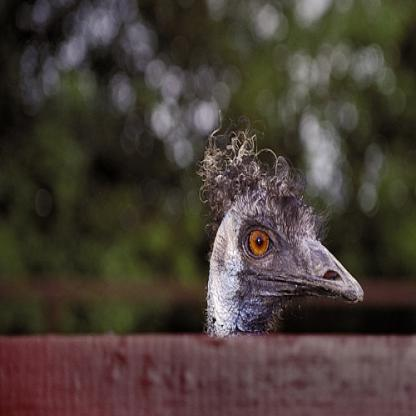bird: (198, 120, 364, 336)
